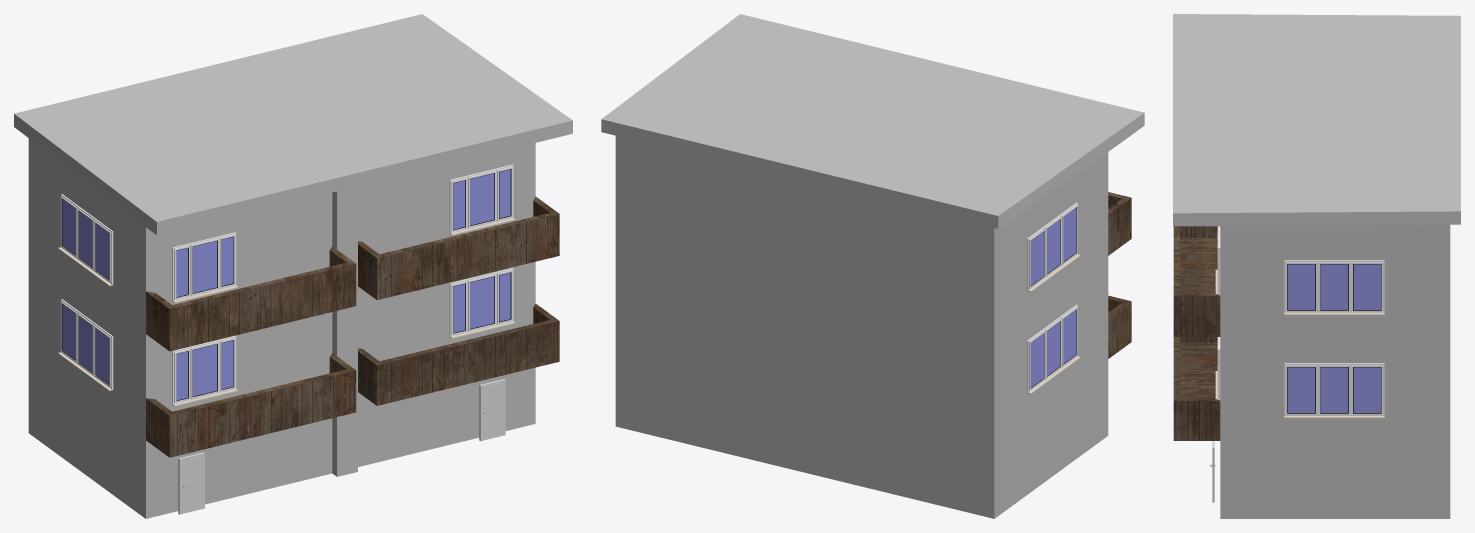
The model's file is building 4.fbx.
3 renders of one model, left to right at view 1: azimuth 30°, elevation 25°; view 2: azimuth 150°, elevation 25°; view 3: azimuth 270°, elevation 25°, orthographic. The views are drawn at different scales.
Parts seen in each view (by area): view 1: Plane, Window.002, Window.004, Window, Window.003, Window.006, Window.007, Door.001, Door; view 2: Plane, Window.006, Window.007; view 3: Plane, Window.005, Window.008.
Boxes of the visible parts, x1,y1,x2,y2 form: Plane: (14, 14, 572, 518); Window.002: (449, 164, 515, 235); Window.004: (172, 335, 237, 406); Window: (172, 232, 237, 303); Window.003: (449, 268, 515, 338); Window.006: (58, 299, 113, 391); Window.007: (58, 194, 113, 286); Door.001: (482, 382, 503, 440); Door: (181, 456, 202, 513); Plane: (601, 14, 1144, 518); Window.006: (1027, 304, 1080, 394); Window.007: (1027, 202, 1080, 291); Plane: (1173, 14, 1460, 518); Window.005: (1284, 363, 1384, 418); Window.008: (1284, 260, 1384, 315).
Bounding box in the file's own units: 1646 × 1202 × 1005.
